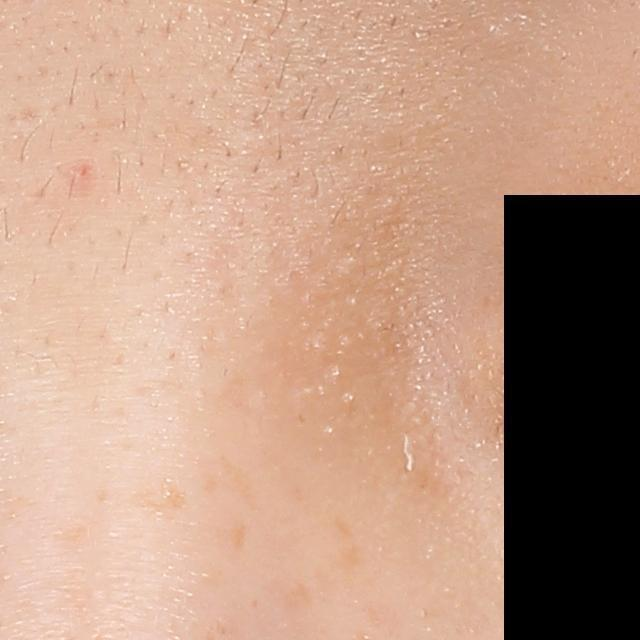melasma: (121, 473, 192, 520), (221, 448, 259, 506), (280, 578, 322, 622), (334, 516, 362, 574), (230, 516, 247, 551)
